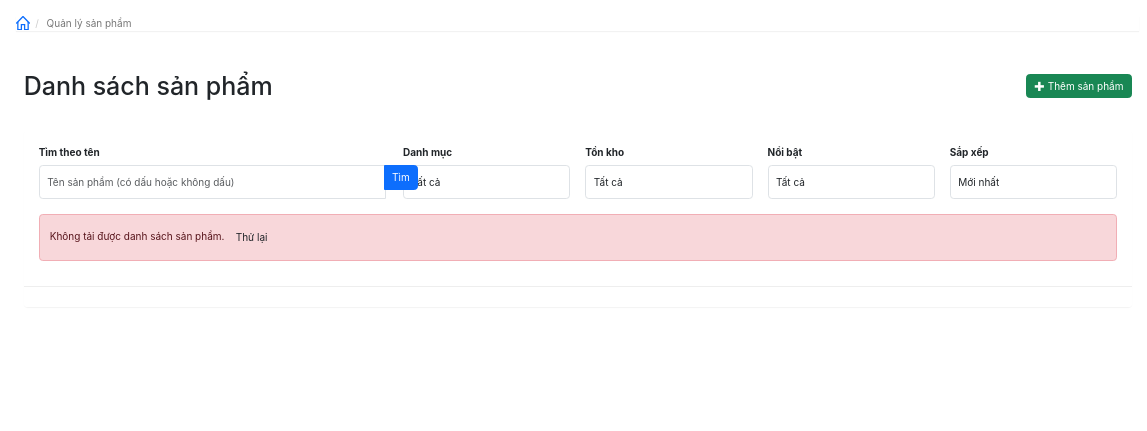
Test: lỗi tải danh sách: hiện thông báo và thử lại được
Check: the message shows "Không tải được danh sách sản phẩm", box x1=50 y1=230 x2=224 y2=242
What coordinates should you click on to do the following:
click the button "Thử lại"
I would click on:
 (252, 237)
Its box is x1=227 y1=225 x2=276 y2=250.
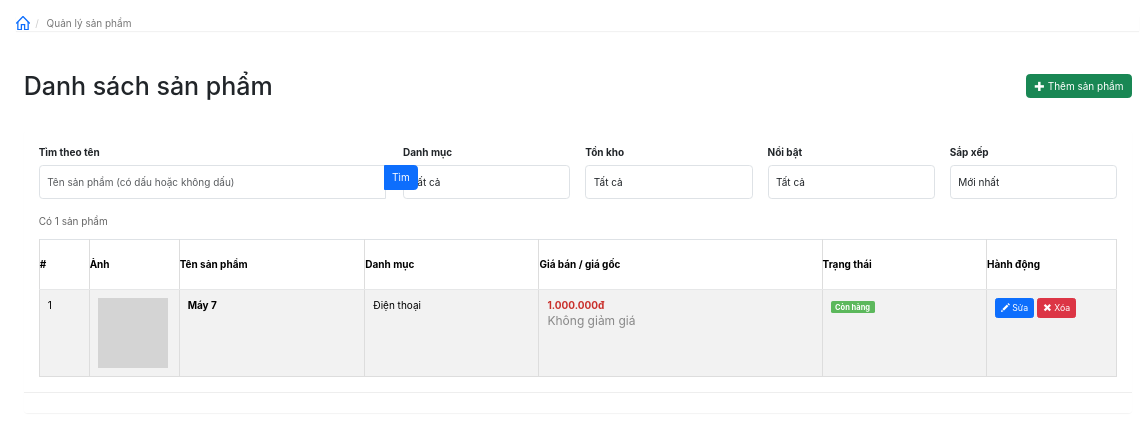
Check: the text "Máy 7" is shown, box x1=188 y1=299 x2=217 y2=311
